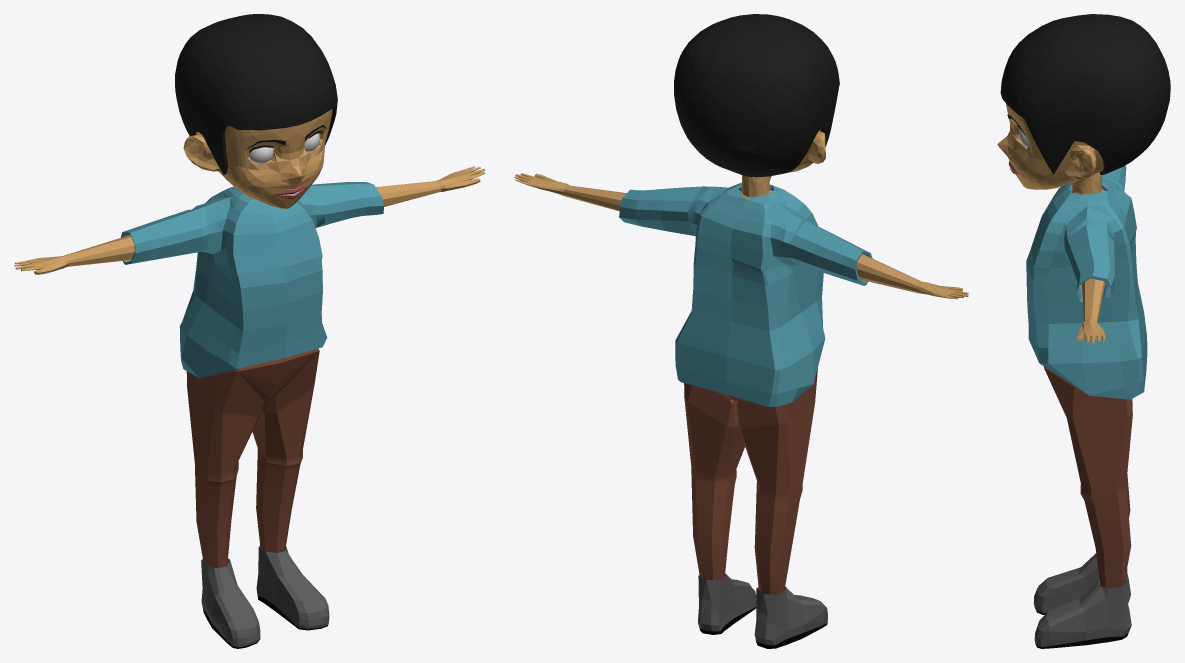
Rendered from Girl_v02.fbx.
The picture shows the model from 3 angles, left to right: view 1: azimuth 30°, elevation 25°; view 2: azimuth 150°, elevation 25°; view 3: azimuth 270°, elevation 25°; orthographic projection. The views are drawn at different scales.
Visible parts, largest first — view 1: body; view 2: body; view 3: body.
Boxes of the visible parts, bbox=[...] form: body: bbox=[14, 14, 485, 648]; body: bbox=[514, 14, 968, 648]; body: bbox=[997, 14, 1170, 648].
Bounding box in the file's own units: 99.59 × 124 × 32.49.
